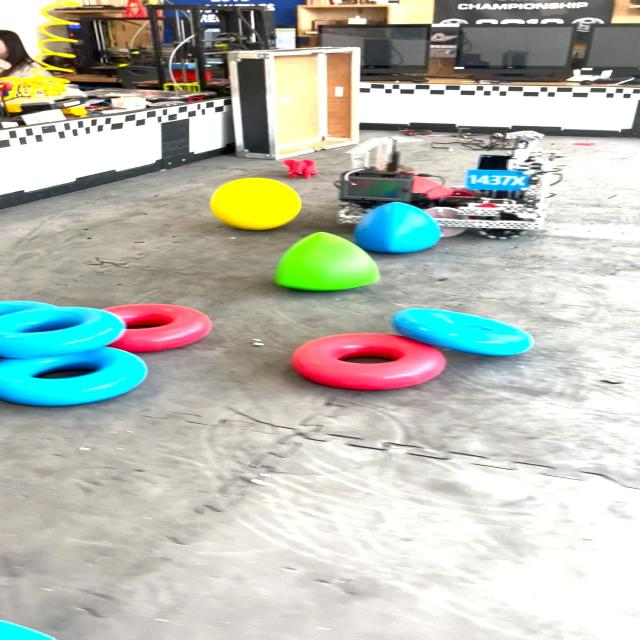Blue-Ring: (0, 348, 147, 406), (0, 308, 127, 359), (393, 309, 533, 355)
Red-Ring: (291, 332, 447, 390), (104, 304, 211, 351)
